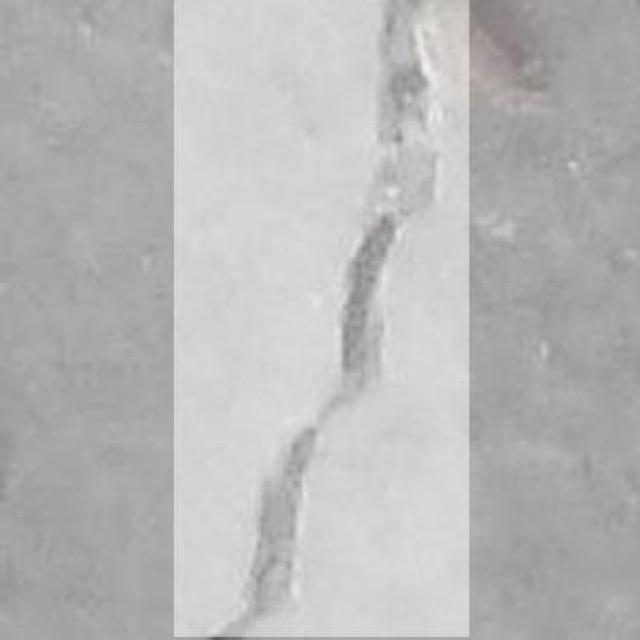Crack: (203, 0, 460, 640)
